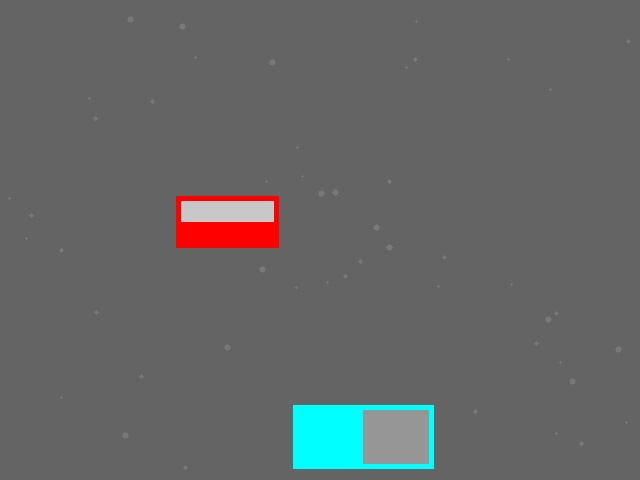car: (176, 196, 278, 247)
truck: (293, 405, 433, 468)
